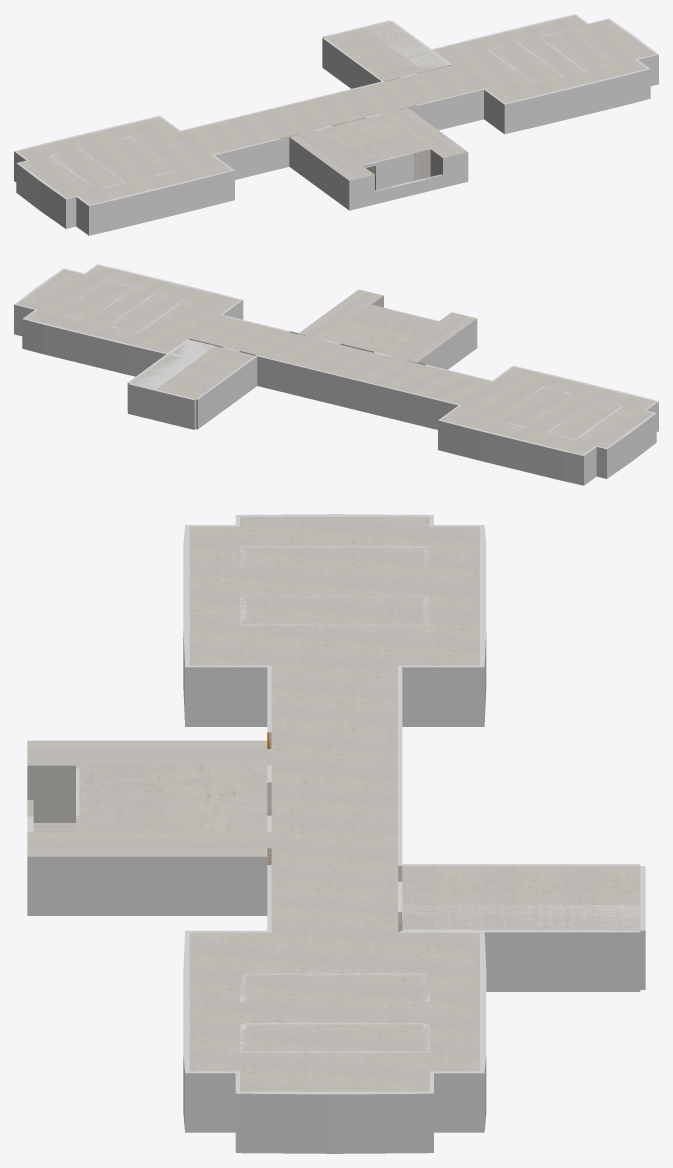
The model's file is dorm2.glb.
3 renders of one model, top to bottom at view 1: azimuth 30°, elevation 25°; view 2: azimuth 150°, elevation 25°; view 3: azimuth 270°, elevation 25°, orthographic. The views are drawn at different scales.
Visible parts, largest first — view 1: Плоскость; view 2: Плоскость; view 3: Плоскость.
Boxes of the visible parts, left/top/right/bottom form: Плоскость: left=14, top=14, right=658, bottom=235; Плоскость: left=14, top=264, right=658, bottom=485; Плоскость: left=27, top=514, right=645, bottom=1153.
Size of the model in its own units: 109 by 5.2 by 48.97.
Materials: 126 (123 with a texture image).
